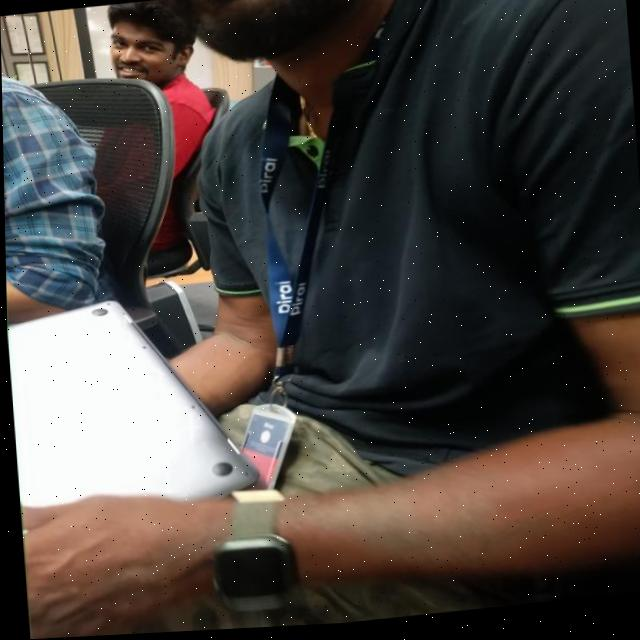id_card: (209, 66, 372, 496)
